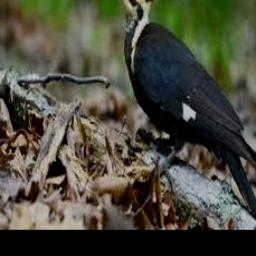Woodpecker: (94, 0, 256, 230)
